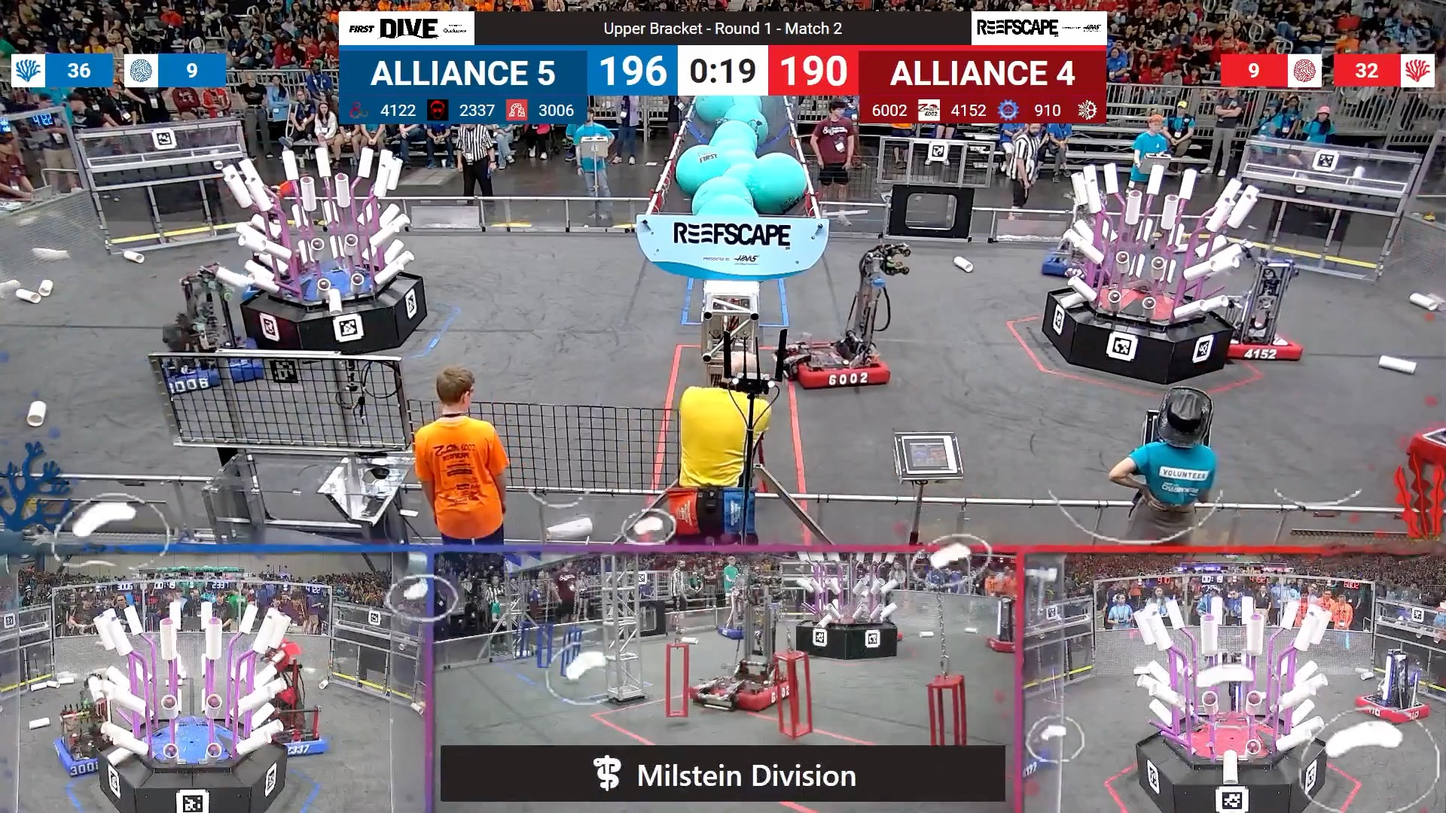bumpers: (782, 337, 898, 396), (156, 336, 270, 393), (689, 667, 804, 714), (1219, 319, 1309, 369), (49, 733, 133, 775), (1350, 691, 1436, 726), (267, 719, 331, 760), (1037, 250, 1115, 280)
